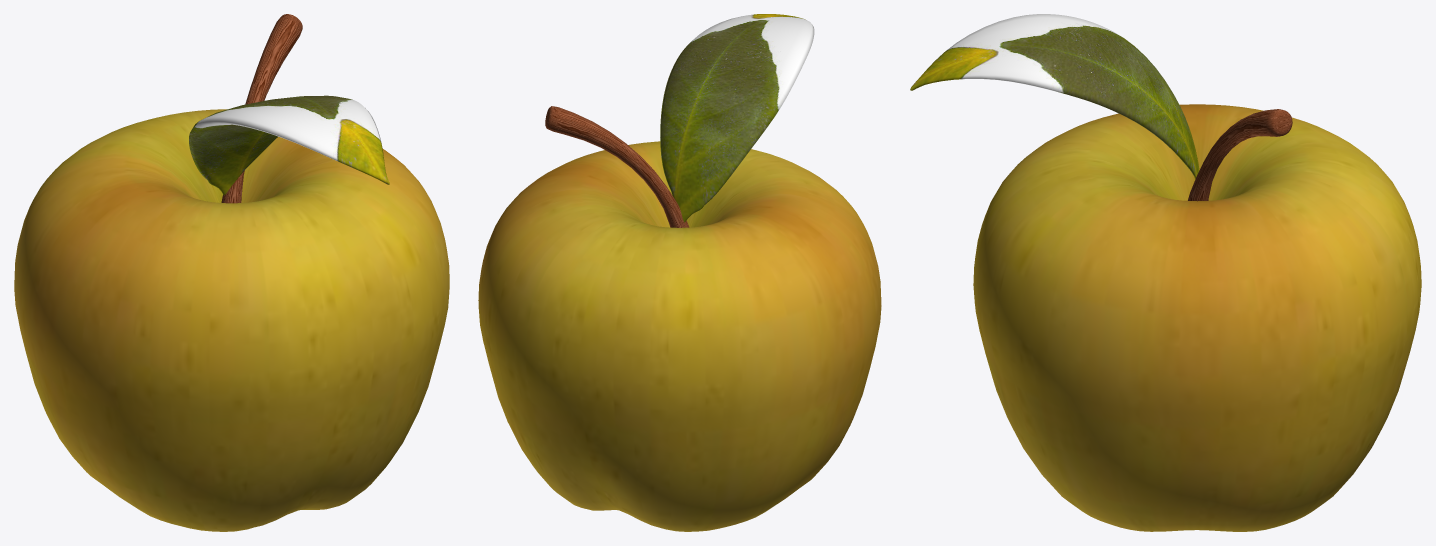
Rendered from apple.fbx.
3 views of the same model, side by side, from view 1: azimuth 30°, elevation 25°; view 2: azimuth 150°, elevation 25°; view 3: azimuth 270°, elevation 25° (orthographic). The views are drawn at different scales.
Visible parts, largest first — view 1: Apple, Plane02, ChamferCyl01; view 2: Apple, Plane02, ChamferCyl01; view 3: Apple, Plane02, ChamferCyl01.
Boxes of the visible parts, <box> form: Apple: <box>14,109,449,531</box>; Plane02: <box>189,95,389,195</box>; ChamferCyl01: <box>221,14,302,203</box>; Apple: <box>478,141,881,531</box>; Plane02: <box>660,14,814,222</box>; ChamferCyl01: <box>545,106,689,227</box>; Apple: <box>973,104,1421,531</box>; Plane02: <box>910,14,1199,178</box>; ChamferCyl01: <box>1187,109,1292,201</box>.
Size of the model in its own units: 4424 by 4946 by 5047.
3 materials, 3 textured.
